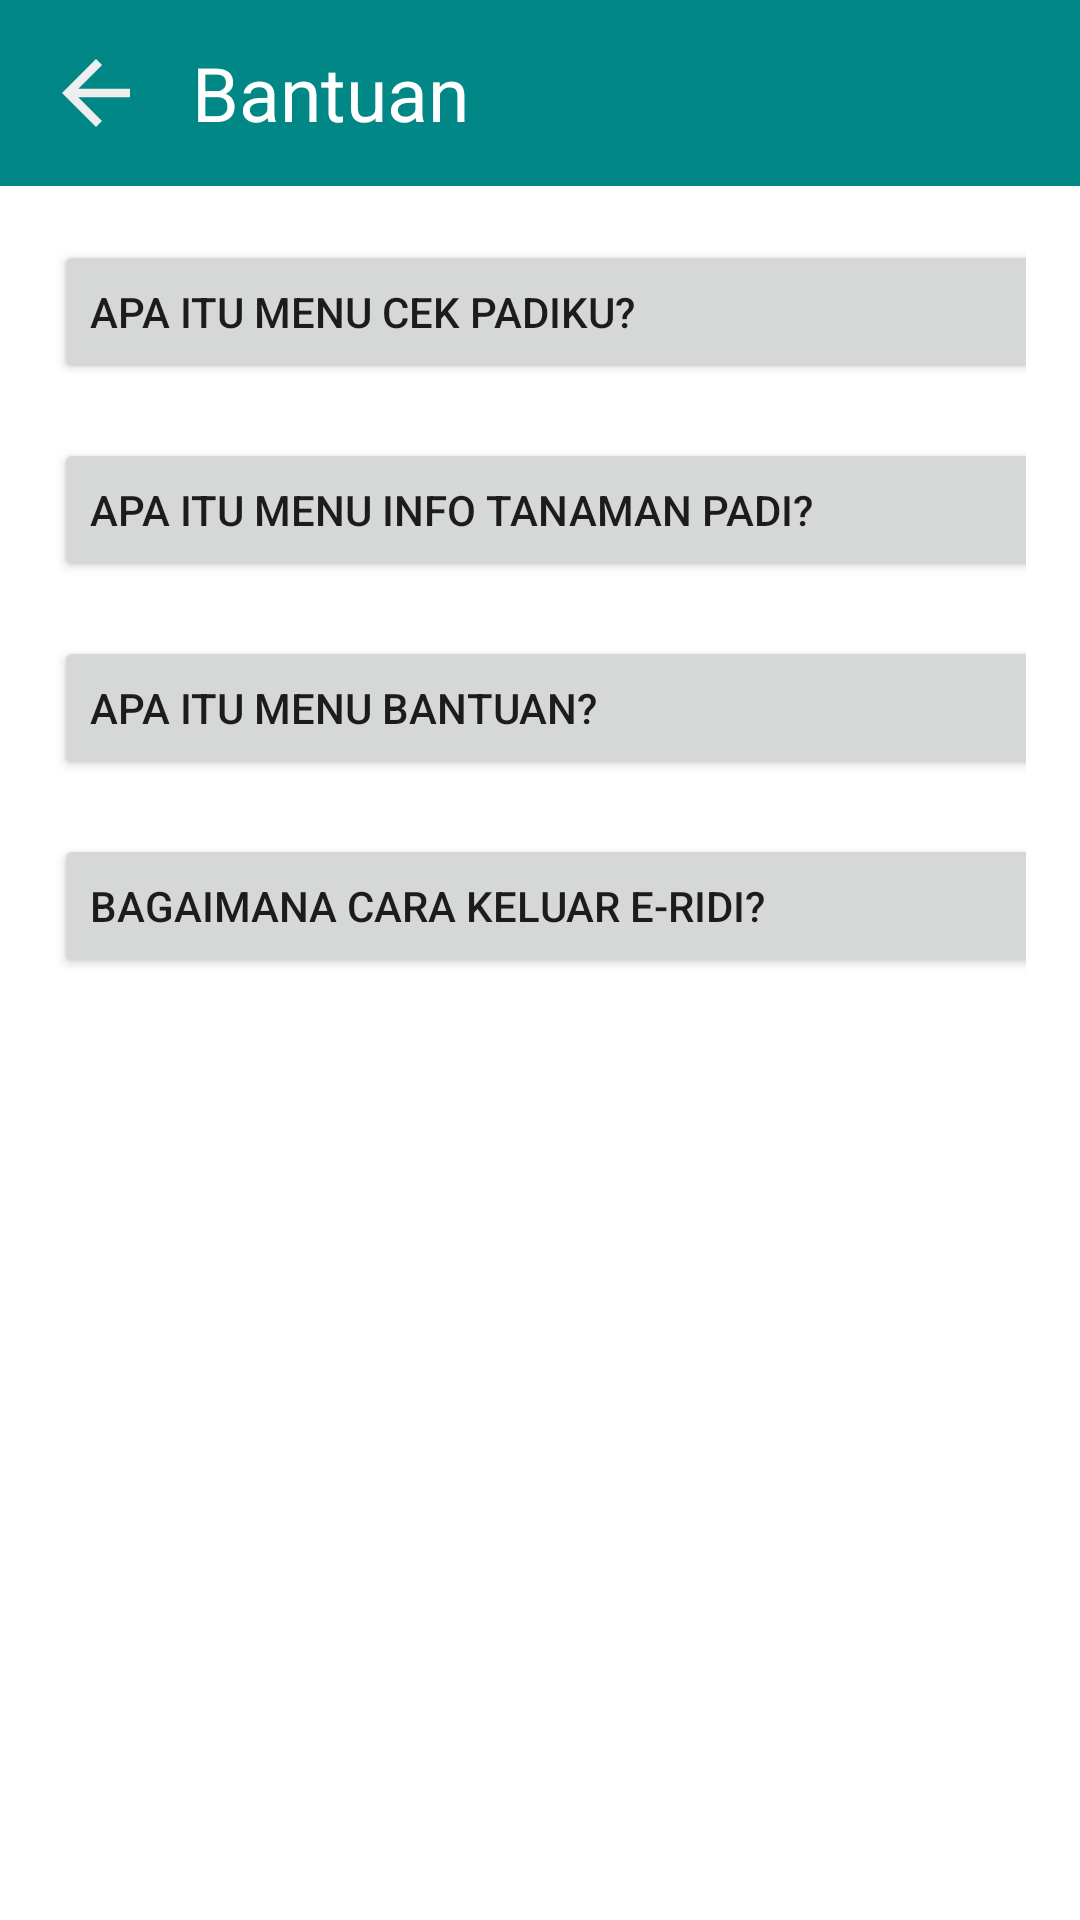

Screen size 1080x1920. Icon name, then its center in pixels as (x=x, y=y):
back: (x=96, y=93)
